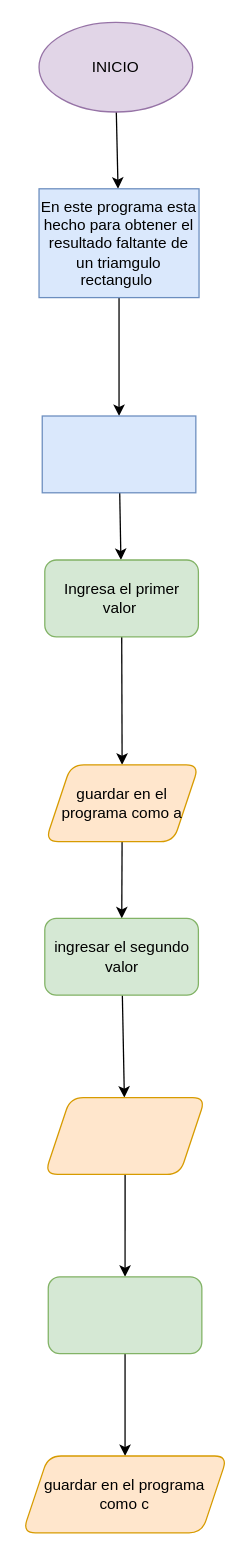
The diagram is 250 pixels wide and 1555 high, and some of its shapes have lost their labels. Each missing label, with the centre of its shape:
Favor de dejar en blanco el valor del lado que desees calcular: [118,454]
guardar en el programa como b: [124,1135]
ingresar el tercer valor: [124,1315]
